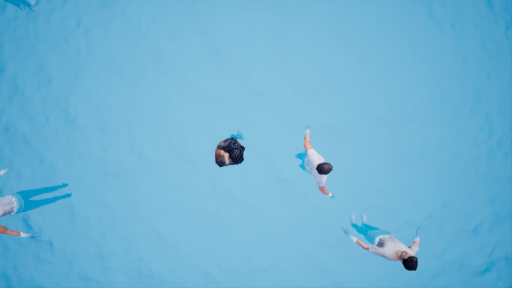person: (1, 161, 78, 244), (338, 207, 432, 272), (291, 125, 336, 198), (210, 132, 251, 168)
